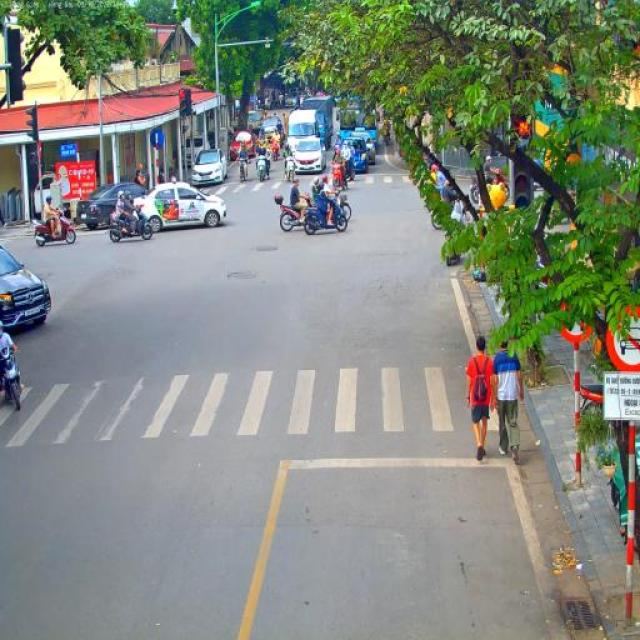car: (134, 181, 228, 234), (0, 243, 52, 332), (76, 182, 152, 228), (285, 134, 327, 176), (191, 148, 229, 187), (340, 134, 369, 174), (349, 126, 377, 166), (230, 130, 254, 161), (260, 117, 284, 141)
motorcycle: (108, 202, 154, 244), (31, 209, 77, 247), (302, 200, 348, 235), (274, 194, 314, 232), (0, 347, 22, 411), (577, 384, 603, 417), (330, 154, 349, 190), (333, 192, 352, 220), (445, 238, 463, 266), (470, 175, 486, 204), (282, 154, 297, 182), (256, 155, 270, 183), (236, 156, 249, 183), (343, 156, 356, 182), (431, 210, 442, 230), (258, 138, 268, 158), (272, 140, 280, 160)
truck: (287, 96, 335, 150), (339, 100, 378, 136), (247, 110, 262, 135)
